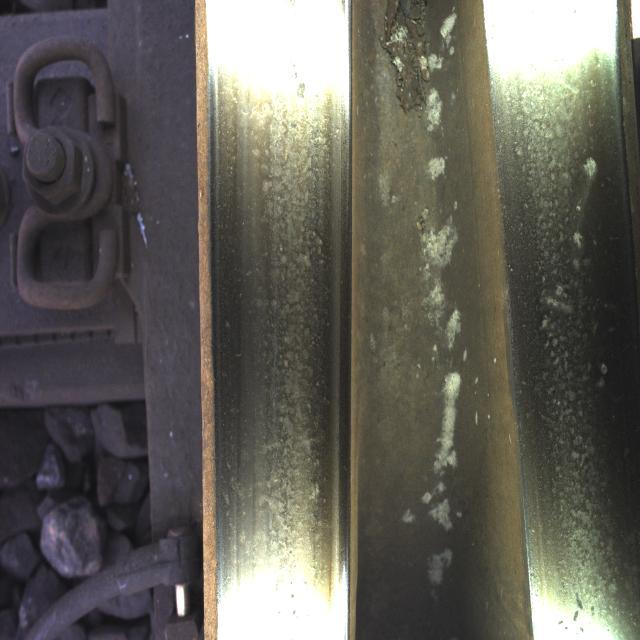crack: (508, 38, 634, 558)
scar: (214, 47, 330, 604)
